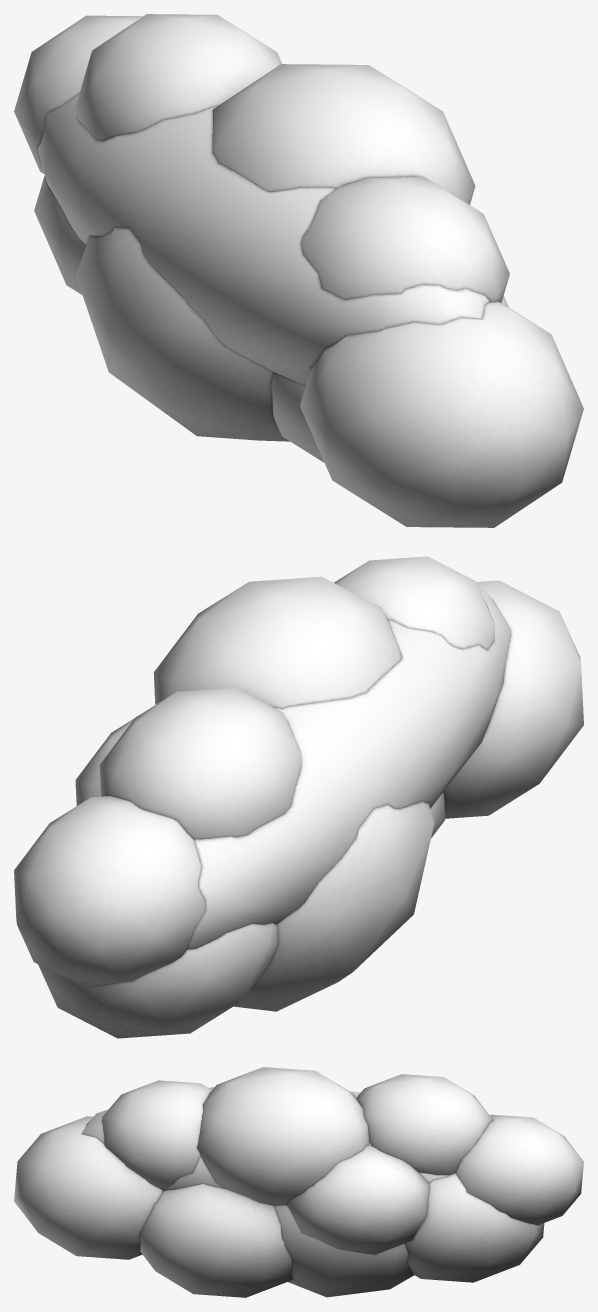
Rendered from Nuage_01.FBX.
The picture shows the model from 3 angles, top to bottom: view 1: azimuth 30°, elevation 25°; view 2: azimuth 150°, elevation 25°; view 3: azimuth 270°, elevation 25°; orthographic projection. The views are drawn at different scales.
Visible parts, largest first — view 1: Nuage_01; view 2: Nuage_01; view 3: Nuage_01.
Part boxes in pixels (x1,y1,x2,y2): Nuage_01: (14,14,583,527); Nuage_01: (14,556,583,1038); Nuage_01: (14,1067,583,1297).
Bounding box in the file's own units: 394 × 447 × 1033.
1 material, 1 textured.
